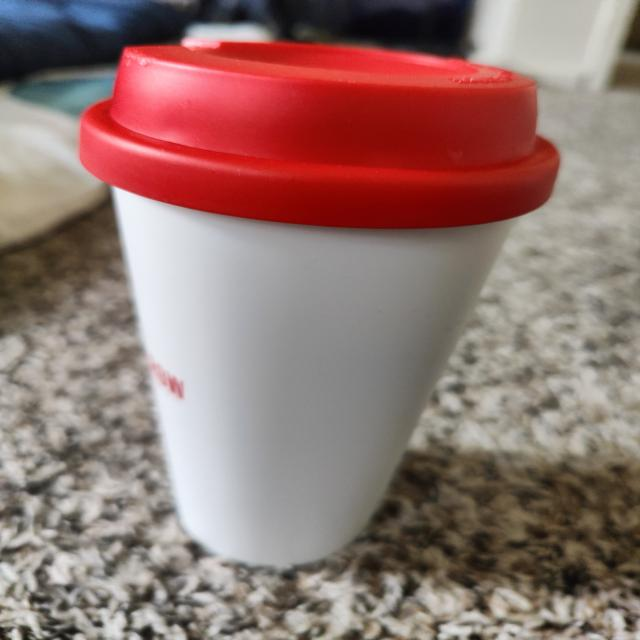mug: (82, 40, 550, 566)
